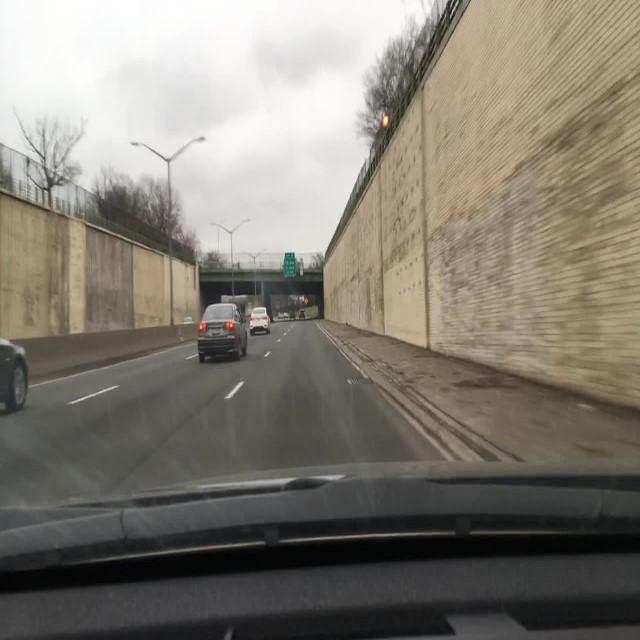normal: (185, 282, 292, 372)
